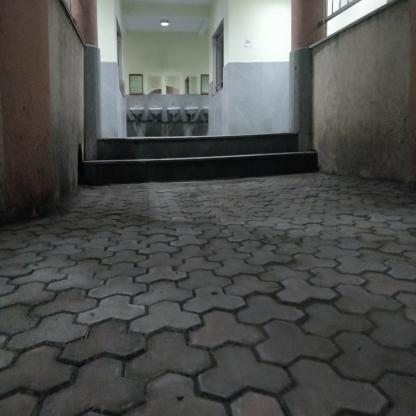stairs: (107, 132, 298, 184)
